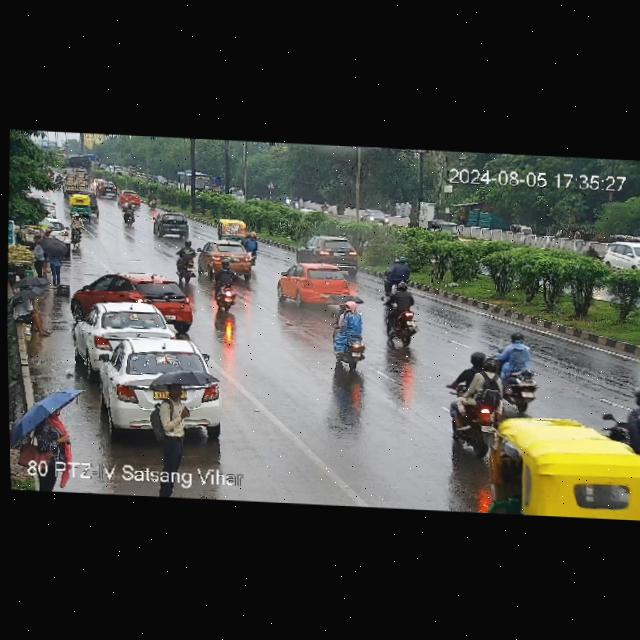car: (489, 409, 640, 519), (93, 337, 219, 433), (71, 271, 201, 331), (75, 303, 177, 363), (272, 263, 358, 311), (198, 238, 258, 277), (296, 232, 360, 266), (603, 237, 640, 269), (149, 211, 190, 239), (24, 221, 70, 242), (65, 193, 102, 218), (425, 217, 462, 238), (215, 217, 250, 237), (358, 206, 393, 226), (92, 179, 119, 199), (120, 191, 143, 211)
motorcycle: (443, 345, 506, 459), (323, 293, 375, 373), (498, 328, 537, 410), (377, 282, 422, 346), (600, 379, 640, 450), (378, 256, 418, 293), (214, 258, 237, 311), (172, 238, 199, 281), (245, 230, 259, 266), (71, 213, 83, 250), (146, 190, 159, 209), (123, 203, 133, 226), (321, 198, 330, 211), (121, 198, 128, 211)
person: (153, 377, 196, 469), (30, 399, 75, 457), (29, 229, 72, 283)
